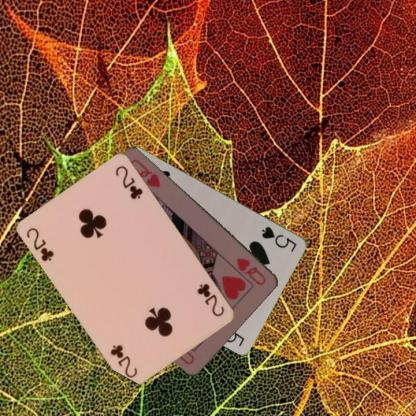2c: (25, 225, 56, 263), (195, 281, 226, 318)
5s: (259, 224, 299, 253)
Qh: (234, 254, 268, 286)
